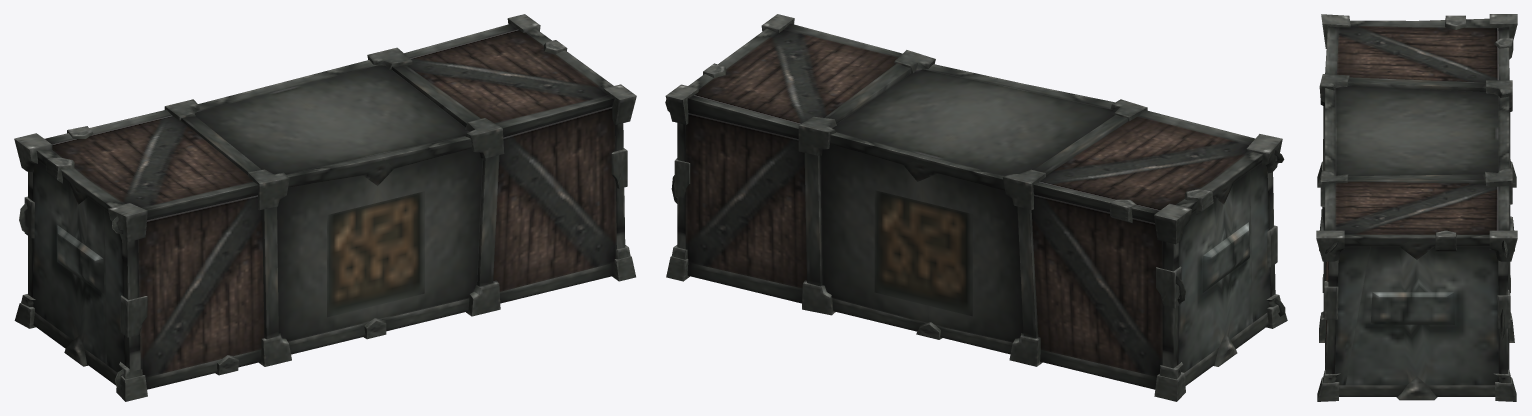
File: SM_EN_2005_muxiang03.FBX
The picture shows the model from 3 angles, left to right: view 1: azimuth 30°, elevation 25°; view 2: azimuth 150°, elevation 25°; view 3: azimuth 270°, elevation 25°; orthographic projection. The views are drawn at different scales.
Parts seen in each view (by area): view 1: SM_EN_2005_muxiang03; view 2: SM_EN_2005_muxiang03; view 3: SM_EN_2005_muxiang03.
Boxes of the visible parts, <box> form: SM_EN_2005_muxiang03: <box>14,14,636,401</box>; SM_EN_2005_muxiang03: <box>665,14,1287,401</box>; SM_EN_2005_muxiang03: <box>1316,14,1517,401</box>.
Bounding box in the file's own units: 99.37 × 33.27 × 36.85.
